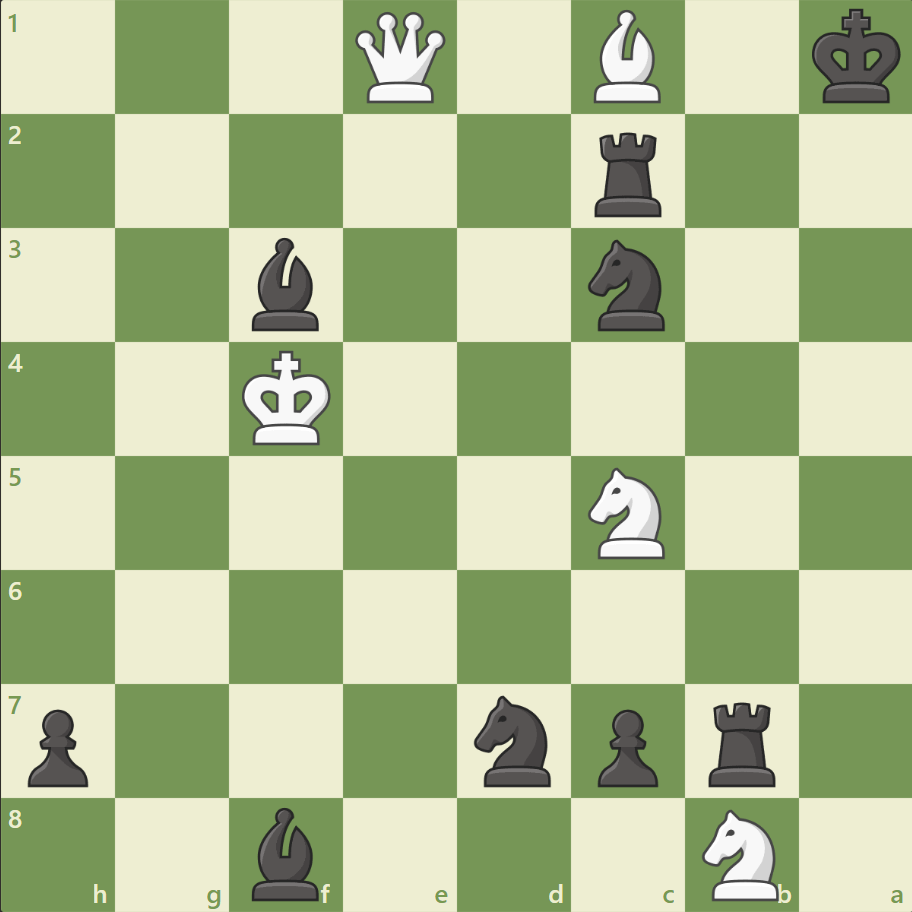B: (585, 6, 669, 109)
K: (238, 344, 338, 452)
N: (579, 461, 676, 564), (692, 802, 789, 904)
Q: (351, 9, 450, 108)
b: (244, 801, 328, 904), (244, 233, 328, 336)
k: (806, 4, 906, 112)
n: (465, 688, 562, 791), (579, 234, 676, 337)
p: (20, 700, 95, 791), (588, 700, 662, 791)
r: (700, 693, 783, 790), (587, 125, 670, 222)
